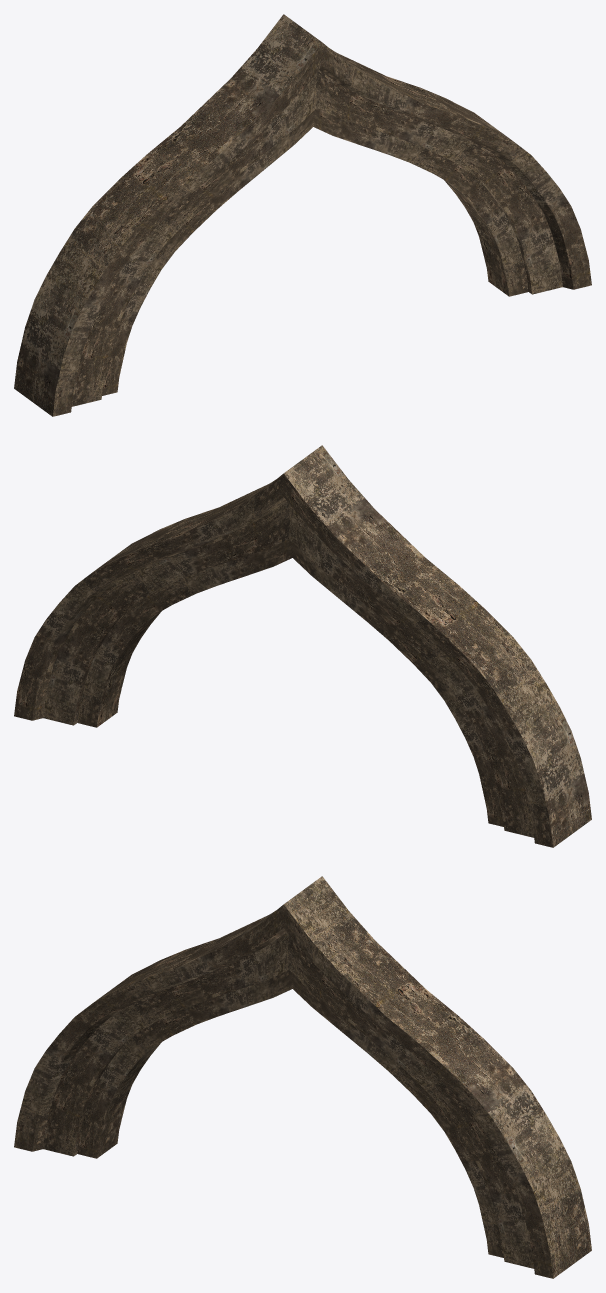
File: materials_5_arch_7.fbx
The picture shows the model from 3 angles, top to bottom: view 1: azimuth 30°, elevation 25°; view 2: azimuth 150°, elevation 25°; view 3: azimuth 330°, elevation 25°; orthographic projection.
Visible parts, largest first — view 1: materials_5_arch_7; view 2: materials_5_arch_7; view 3: materials_5_arch_7.
Boxes of the visible parts, left/top/right/bottom form: materials_5_arch_7: left=14, top=14, right=591, bottom=416; materials_5_arch_7: left=14, top=445, right=591, bottom=847; materials_5_arch_7: left=14, top=876, right=591, bottom=1278.
Bounding box in the file's own units: 141 × 76.96 × 17.48.
